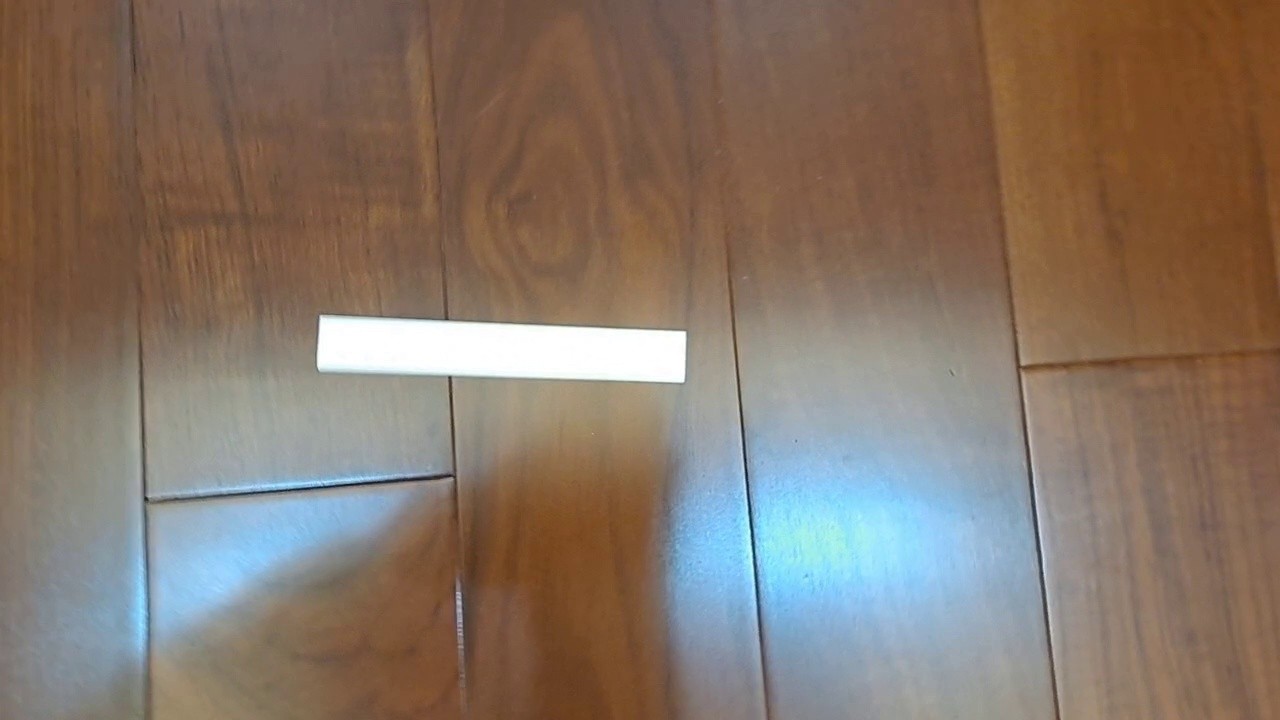ruler: (315, 313, 688, 384)
